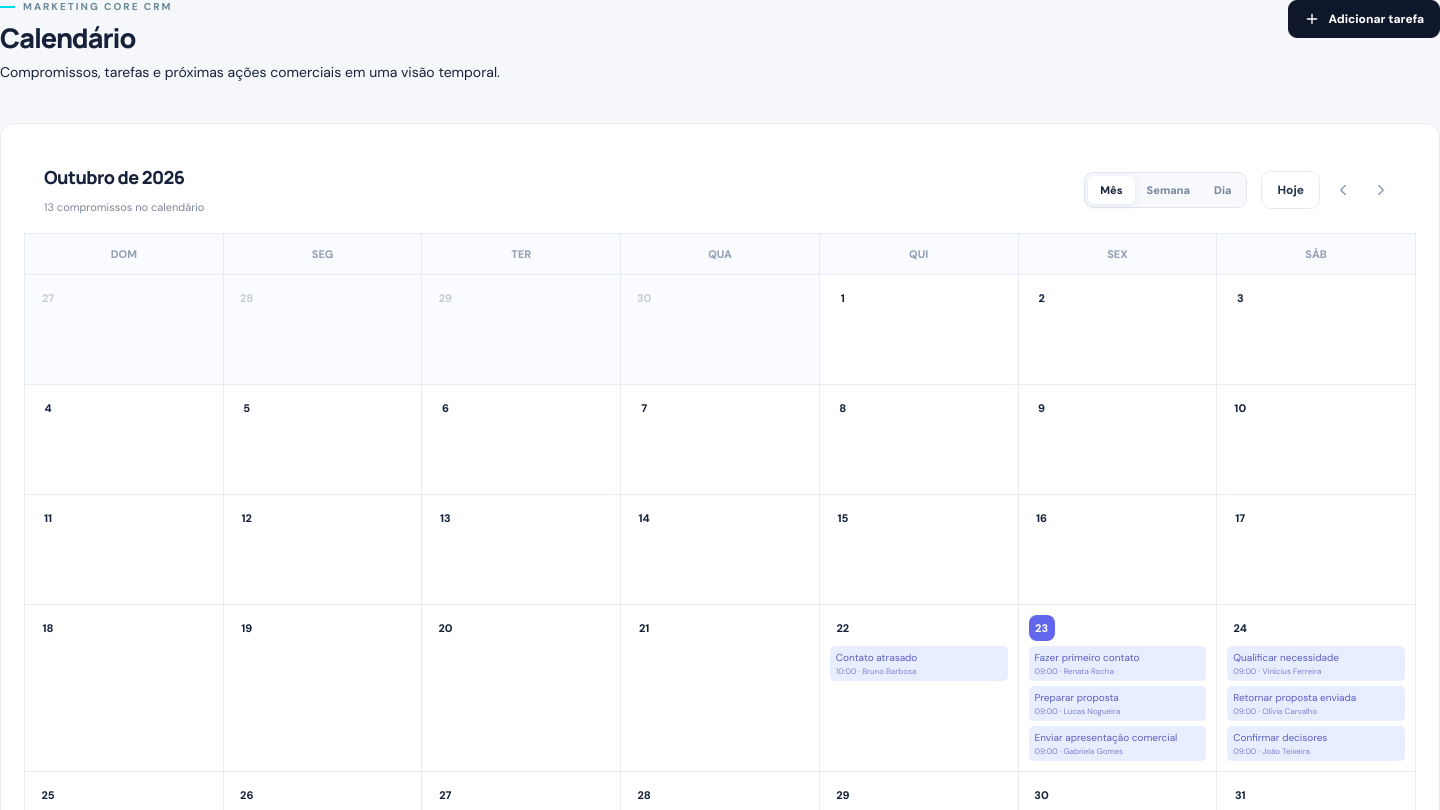
CalendarPage › busca leads e empresas e calcula o status pelo prazo
The width and height of the screenshot is (1440, 810).
Step 1. Click the button "Adicionar tarefa" → [1364, 19], box [1288,0,1439,38]
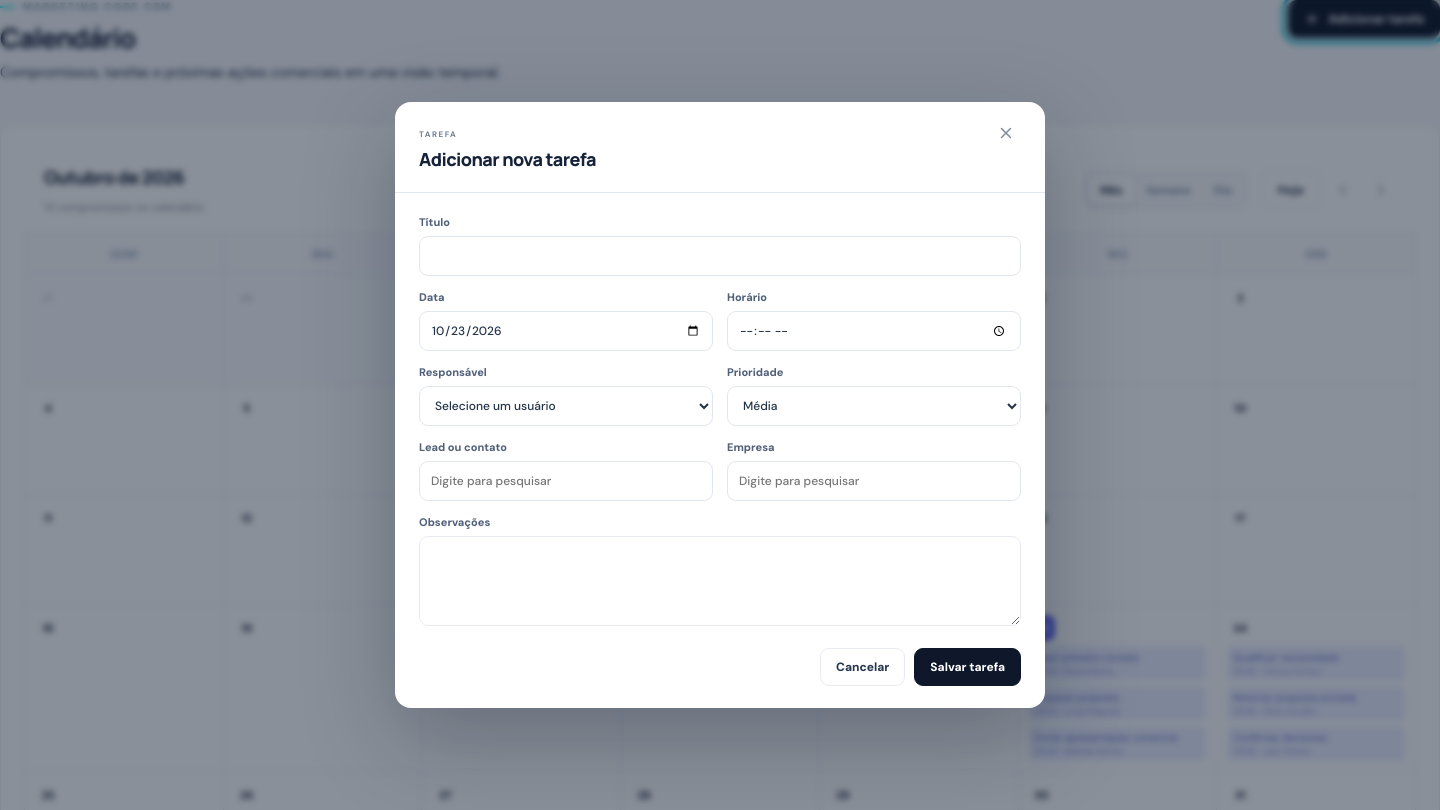
Step 2. Type "Bruno" into the field labelled "Lead ou contato" → [566, 481], box [419,461,713,501]
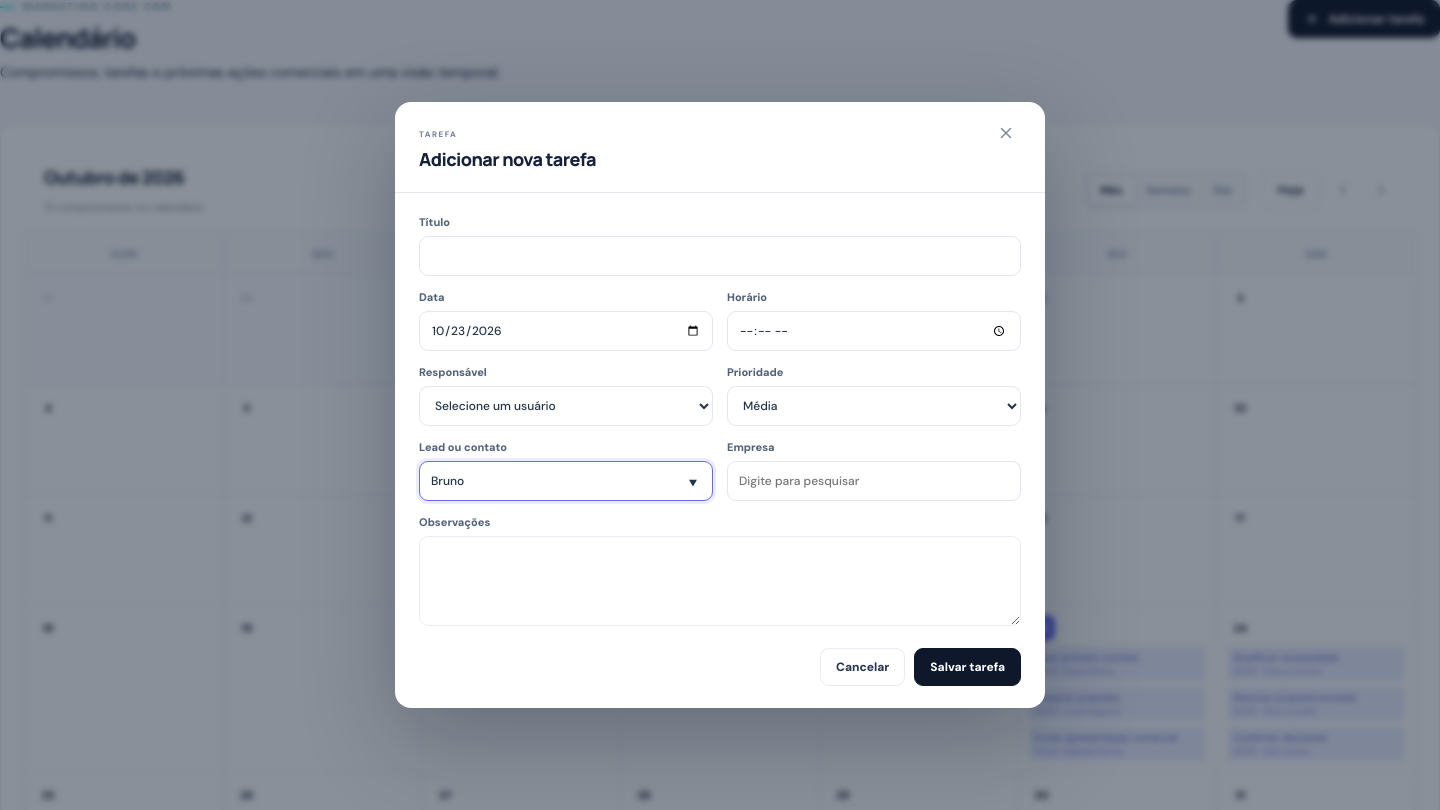
Step 3. Type "Lumina" into the field named "Empresa da tarefa" → [874, 481], box [727,461,1021,501]
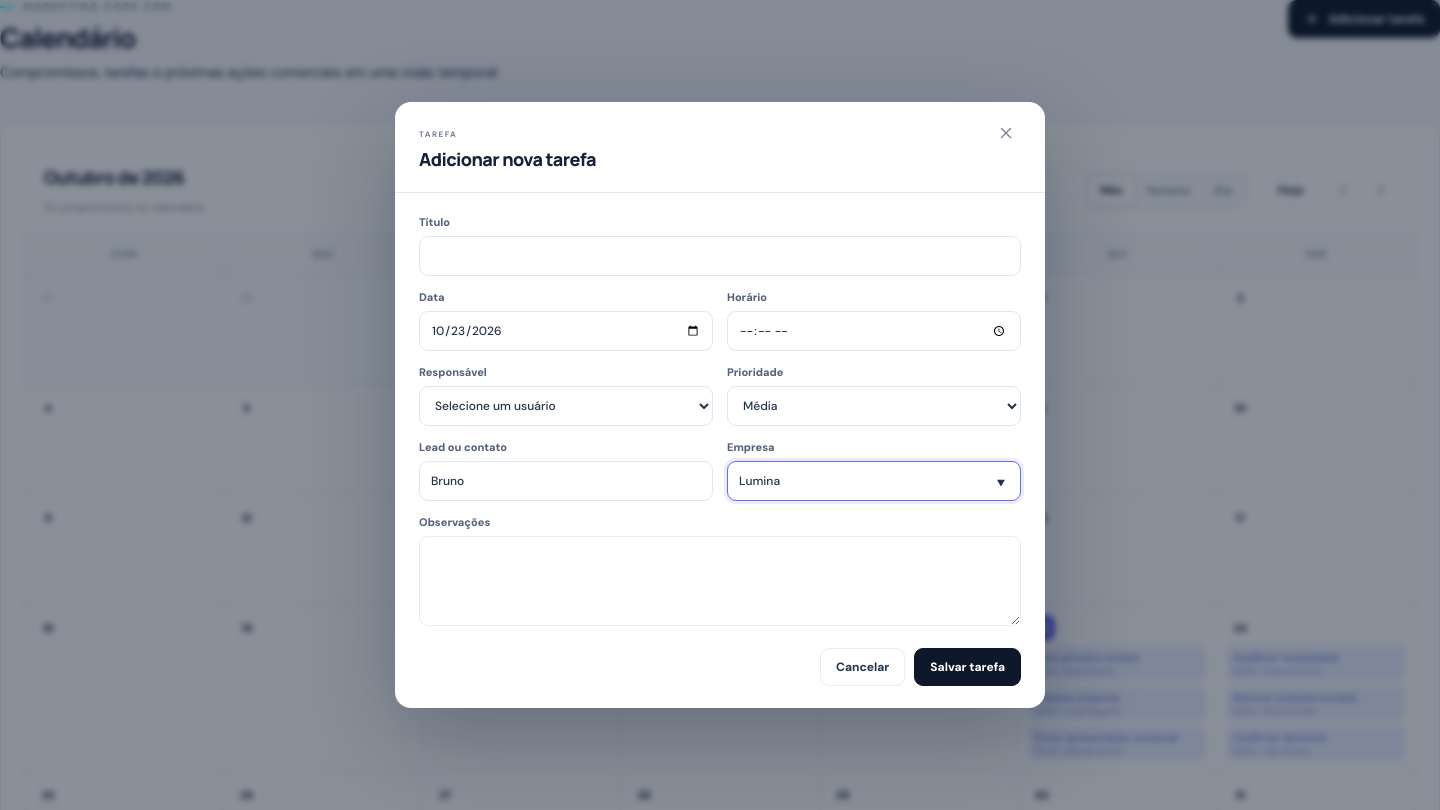
Step 4. Click the button named "Fechar formulário da tarefa" → [1006, 135], box [991,123,1021,147]
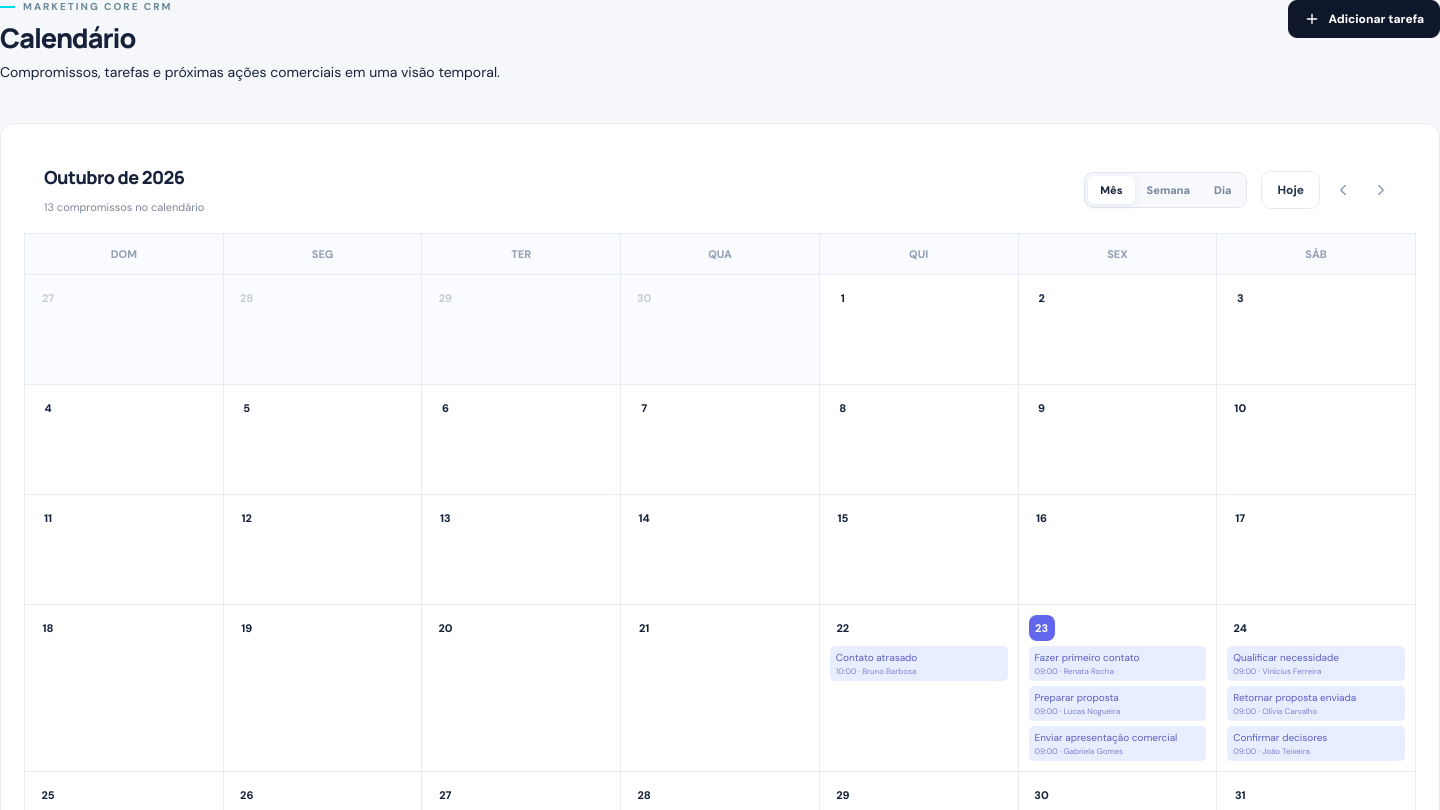
Step 5. Click the button "Contato atrasado 10:00 · Bruno Barbosa" → [919, 663], box [830,646,1008,681]
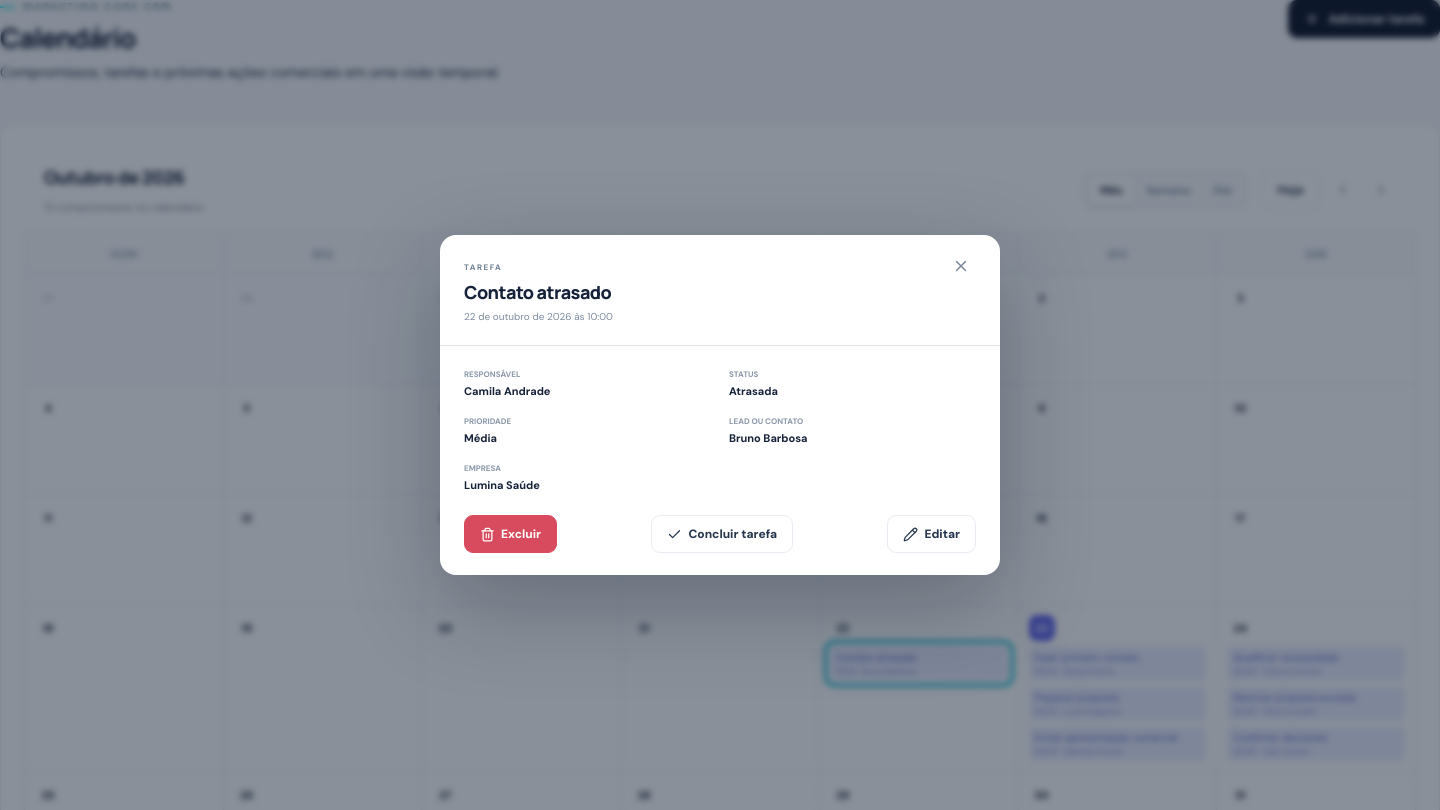
Expected: the text "Atrasada" is shown, [729,384,778,398]
